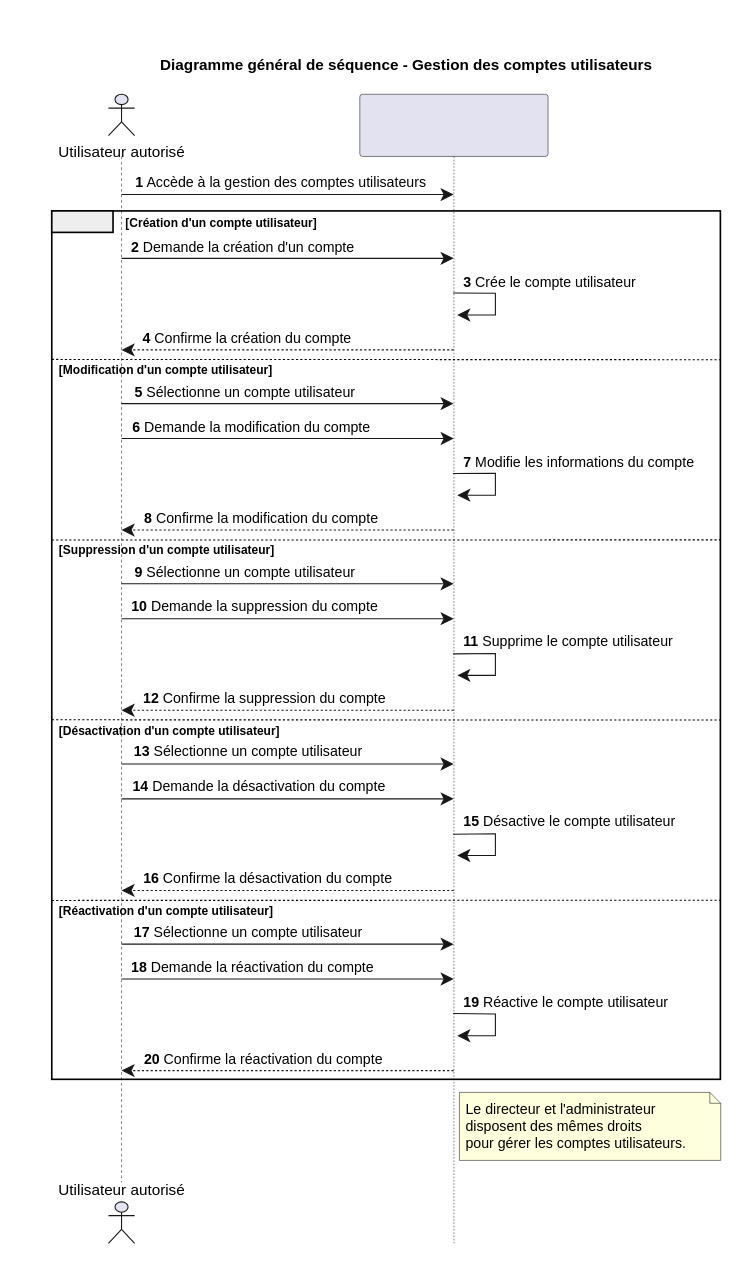
Some shapes in this 740 by 1262 pixel diagram are drawn without their labels. The centre of each missing label's shape, as x and y in pixels:
alt: pixel 81 221
Système de gestion des comptes utilisateurs: pixel 453 668
